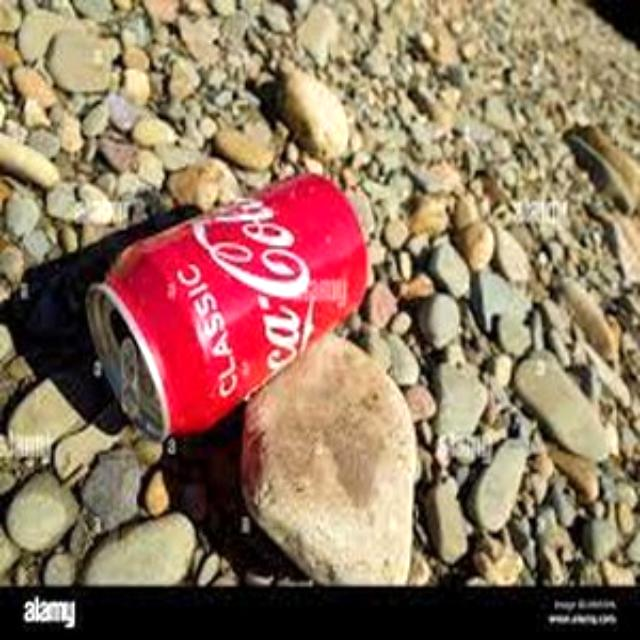Metal: (93, 169, 370, 435)
